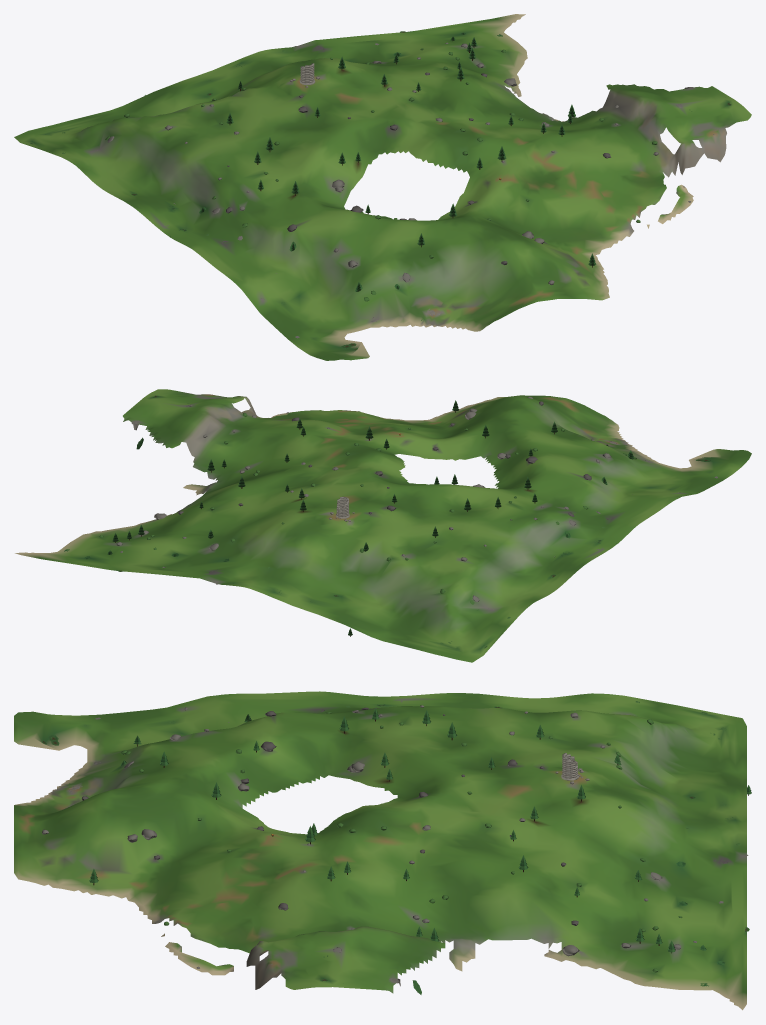
The model's file is arch_isl_gullhaven_lod1.glb.
3 renders of one model, top to bottom at view 1: azimuth 30°, elevation 25°; view 2: azimuth 150°, elevation 25°; view 3: azimuth 270°, elevation 25°, orthographic. The views are drawn at different scales.
Visible parts, largest first — view 1: arch_isl_gullhaven_lod1; view 2: arch_isl_gullhaven_lod1; view 3: arch_isl_gullhaven_lod1.
Part boxes in pixels (x1,y1,x2,y2): arch_isl_gullhaven_lod1: (14,14,751,360); arch_isl_gullhaven_lod1: (15,389,751,662); arch_isl_gullhaven_lod1: (14,691,751,1010).
Size of the model in its own units: 340 by 45.85 by 342.
